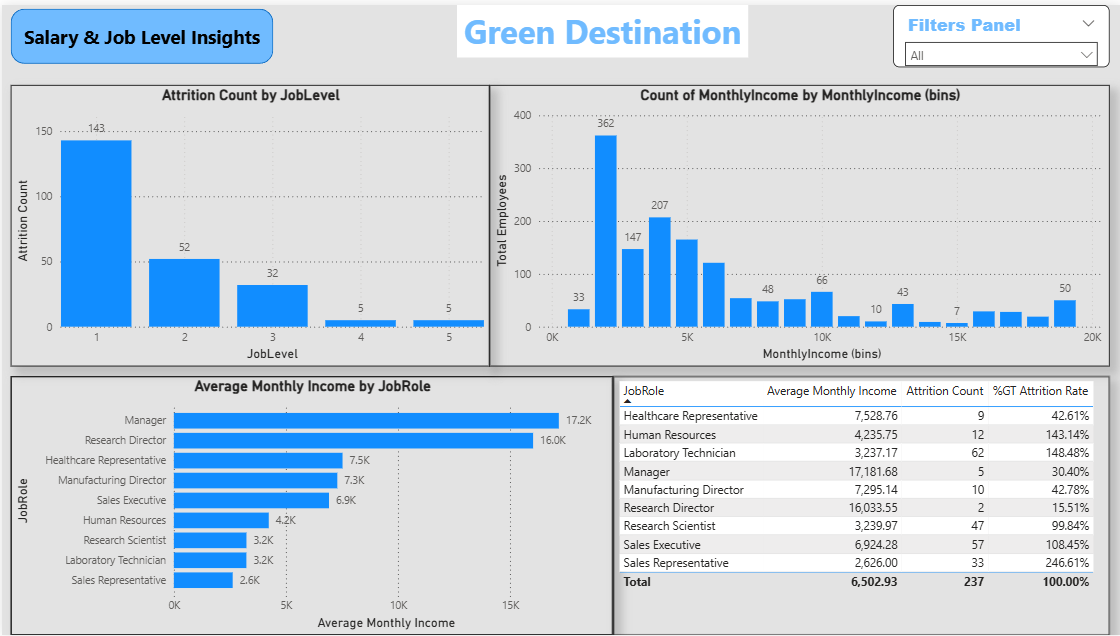

What the dashboard file says about the page in this screenshot:
{"tool":"powerbi","page":{"name":"Salary & Job Level Analysis","canvas":[1280,720],"ordinal":2},"visuals":[{"type":"textbox","box":[520,0,332.9,60],"z":0},{"type":"slicer","fields":{"Values":["greendestination (2).Department","greendestination (2).JobRole","greendestination (2).OverTime","greendestination (2).Gender","greendestination (2).Income Category","greendestination (2).EducationField"]},"box":[1018.6,0,247.1,71.4],"z":1000},{"type":"shape","box":[10,4.3,300,62.9],"z":2000},{"type":"clusteredColumnChart","fields":{"Y":["greendestination (2).Attrition Count"],"Category":["greendestination (2).JobLevel"]},"box":[10,91.4,547.1,321.4],"z":3000},{"type":"barChart","fields":{"Category":["greendestination (2).JobRole"],"Y":["greendestination (2).Average Monthly Income"]},"box":[10,424.3,688.6,295.7],"z":4000},{"type":"clusteredColumnChart","fields":{"Category":["greendestination (2).MonthlyIncome (bins)"],"Y":["CountNonNull(greendestination (2).MonthlyIncome)"]},"box":[557.1,91.4,708.6,321.4],"z":5000},{"type":"tableEx","fields":{"Values":["greendestination (2).JobRole","greendestination (2).Average Monthly Income","greendestination (2).Attrition Count","greendestination (2).Attrition Rate"]},"box":[698.6,424.3,567.1,295.7],"z":5001}]}

Visuals, with their boxes in screenshot pixels (x1, y1, x2, y2), scaled from the page's 1280x720 canvas onto the 1120x636 screenshot:
textbox: select_region(455, 0, 746, 53)
slicer - greendestination (2).Department x greendestination (2).JobRole: select_region(891, 0, 1107, 63)
shape: select_region(9, 4, 271, 59)
clusteredColumnChart - greendestination (2).Attrition Count x greendestination (2).JobLevel: select_region(9, 81, 487, 365)
barChart - greendestination (2).JobRole x greendestination (2).Average Monthly Income: select_region(9, 375, 611, 635)
clusteredColumnChart - greendestination (2).MonthlyIncome (bins) x CountNonNull(greendestination (2).MonthlyIncome): select_region(487, 81, 1107, 365)
tableEx - greendestination (2).JobRole x greendestination (2).Average Monthly Income: select_region(611, 375, 1107, 635)
